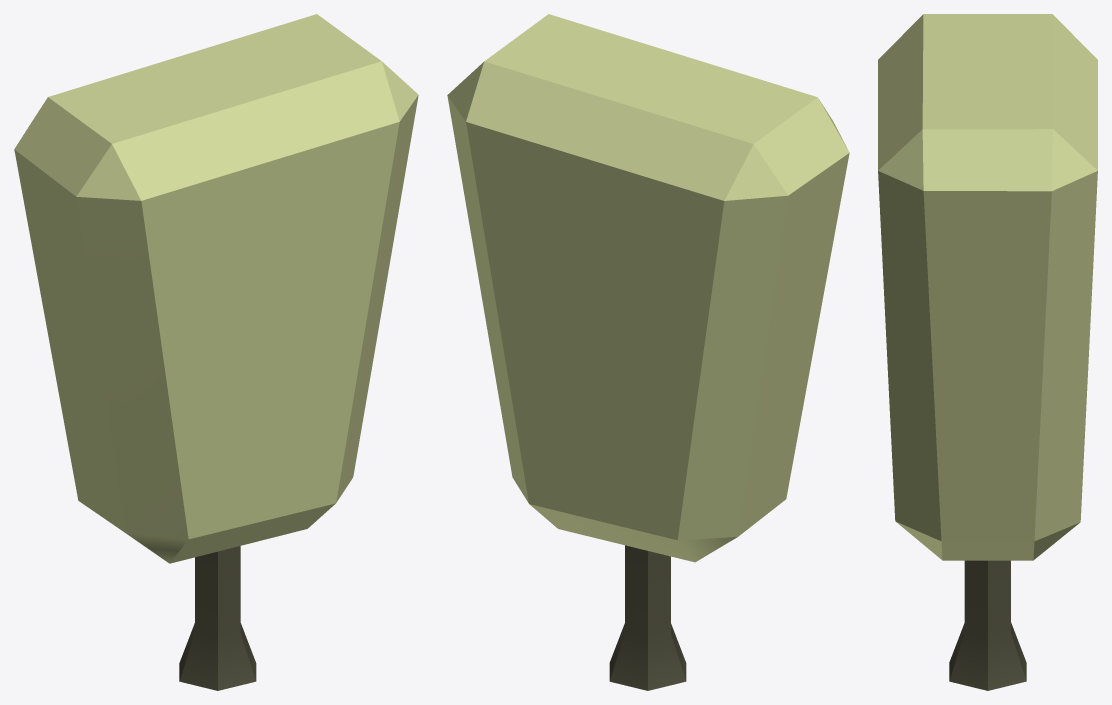
File: Tree1.fbx
3 renders of one model, left to right at view 1: azimuth 30°, elevation 25°; view 2: azimuth 150°, elevation 25°; view 3: azimuth 270°, elevation 25°, orthographic.
Visible parts, largest first — view 1: Tree1Canopy, Tree1Trunk; view 2: Tree1Canopy, Tree1Trunk; view 3: Tree1Canopy, Tree1Trunk.
Boxes of the visible parts, bbox=[...] form: Tree1Canopy: bbox=[14, 14, 418, 563]; Tree1Trunk: bbox=[179, 546, 256, 690]; Tree1Canopy: bbox=[447, 14, 849, 562]; Tree1Trunk: bbox=[609, 545, 686, 690]; Tree1Canopy: bbox=[878, 14, 1097, 560]; Tree1Trunk: bbox=[949, 560, 1026, 690].
Bounding box in the file's own units: 2.24 × 3.78 × 1.24.
